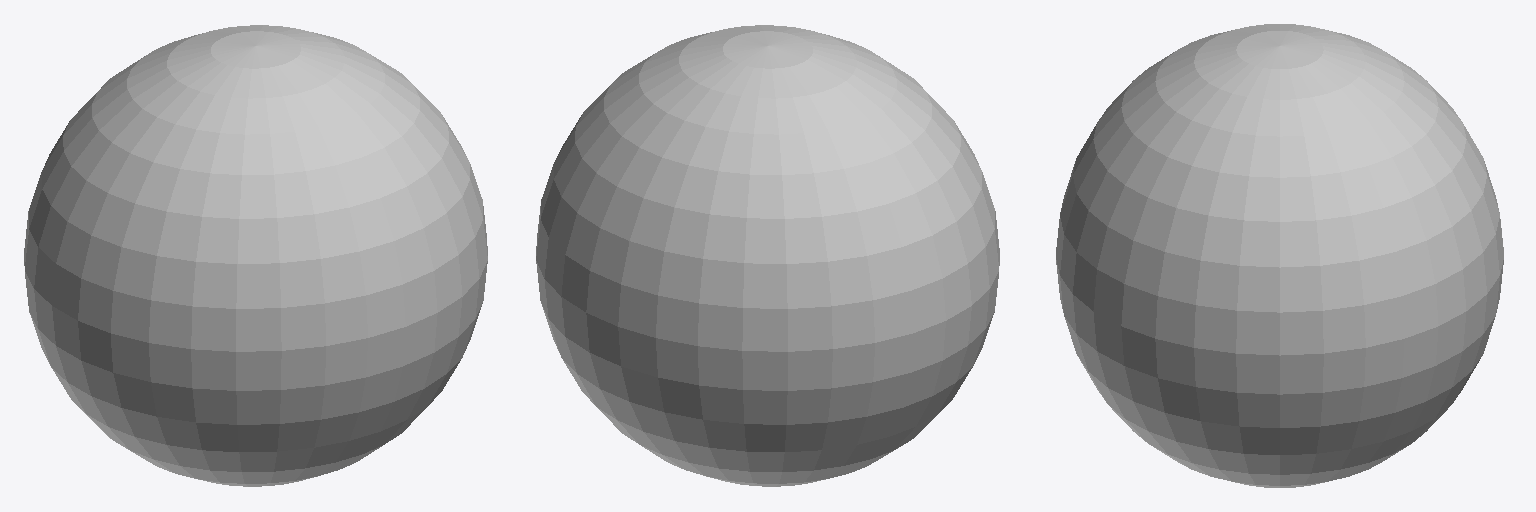
File: Head.obj
The picture shows the model from 3 angles: view 1: azimuth 30°, elevation 25°; view 2: azimuth 150°, elevation 25°; view 3: azimuth 270°, elevation 25°; orthographic projection.
Parts seen in each view (by area): view 1: Head_Sphere; view 2: Head_Sphere; view 3: Head_Sphere.
Boxes of the visible parts, x1,y1,x2,y2 form: Head_Sphere: [24, 25, 487, 486]; Head_Sphere: [536, 25, 999, 486]; Head_Sphere: [1056, 24, 1503, 487].
Bounding box in the file's own units: 1.27 × 1.25 × 1.21.